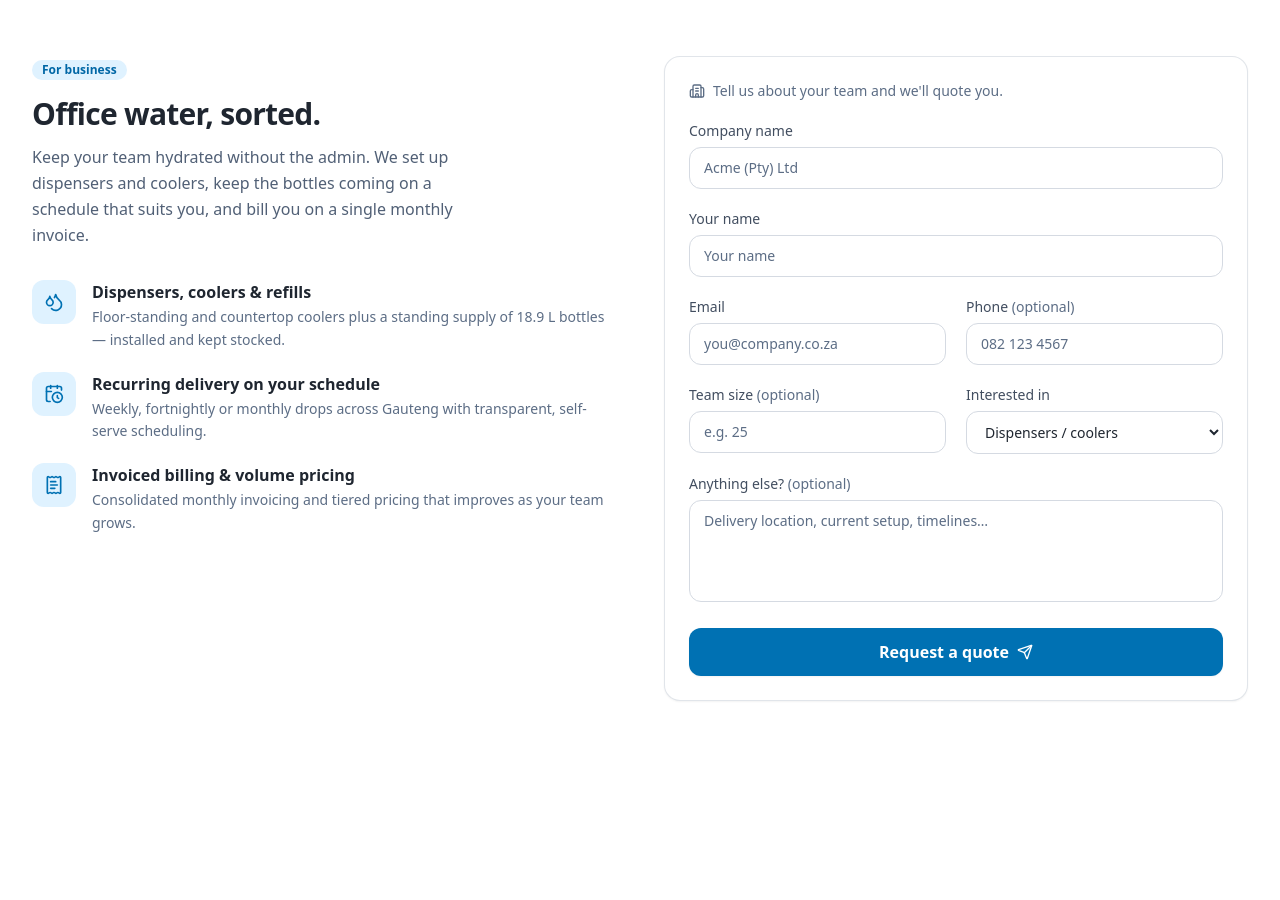
Test: Business › submits and shows confirmation on success
Step 1. Type "Acme Ltd" into the field labelled "Company name" → (956, 168), box [689,147,1223,189]
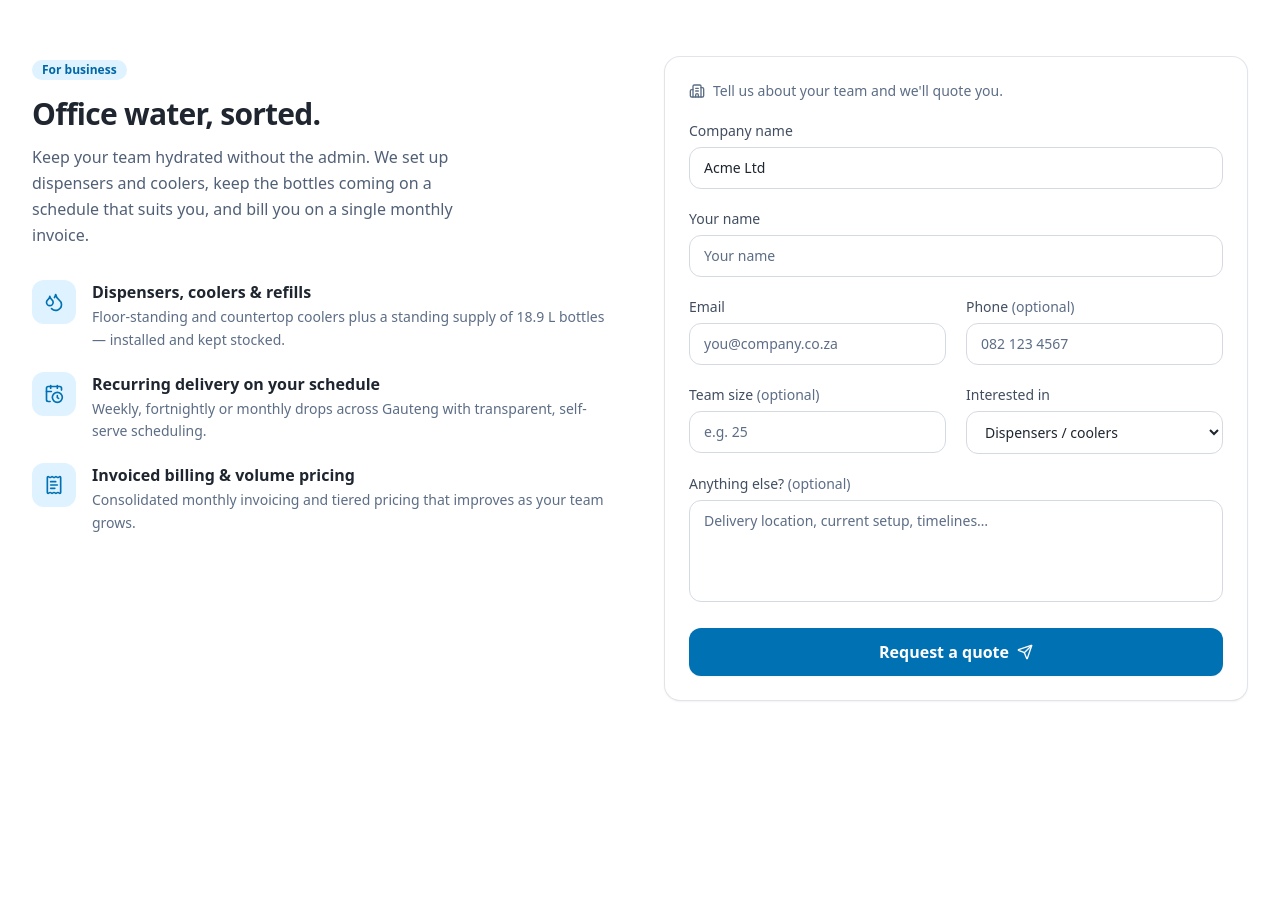
Step 2. Type "Jane Doe" into the field labelled "Your name" → (956, 256), box [689,235,1223,277]
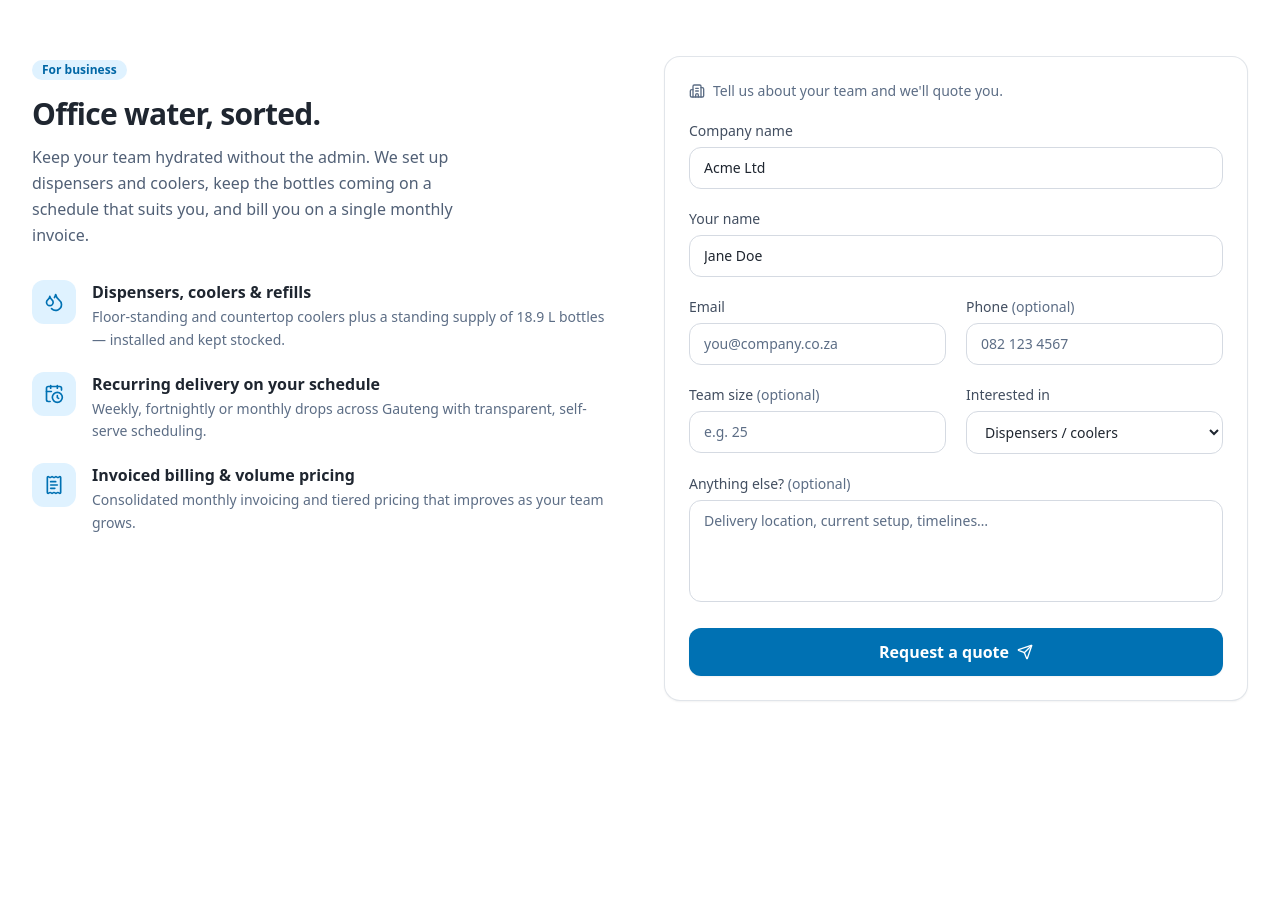
Step 3. Type "jane@acme.co.za" into the field labelled "Email" → (818, 344), box [689,323,946,365]
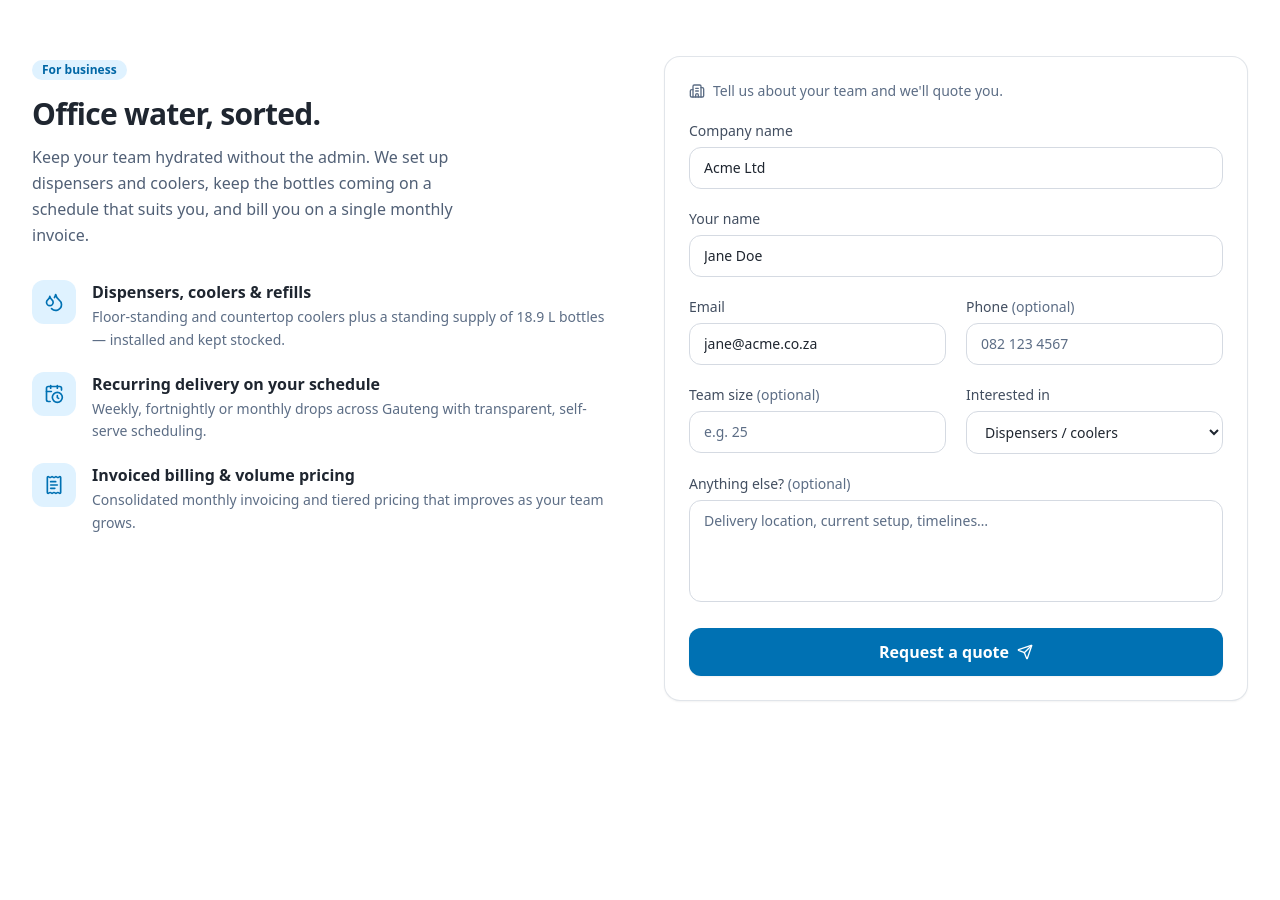
Step 4. Click the button "Request a quote" → click(956, 652), box [689,628,1223,676]
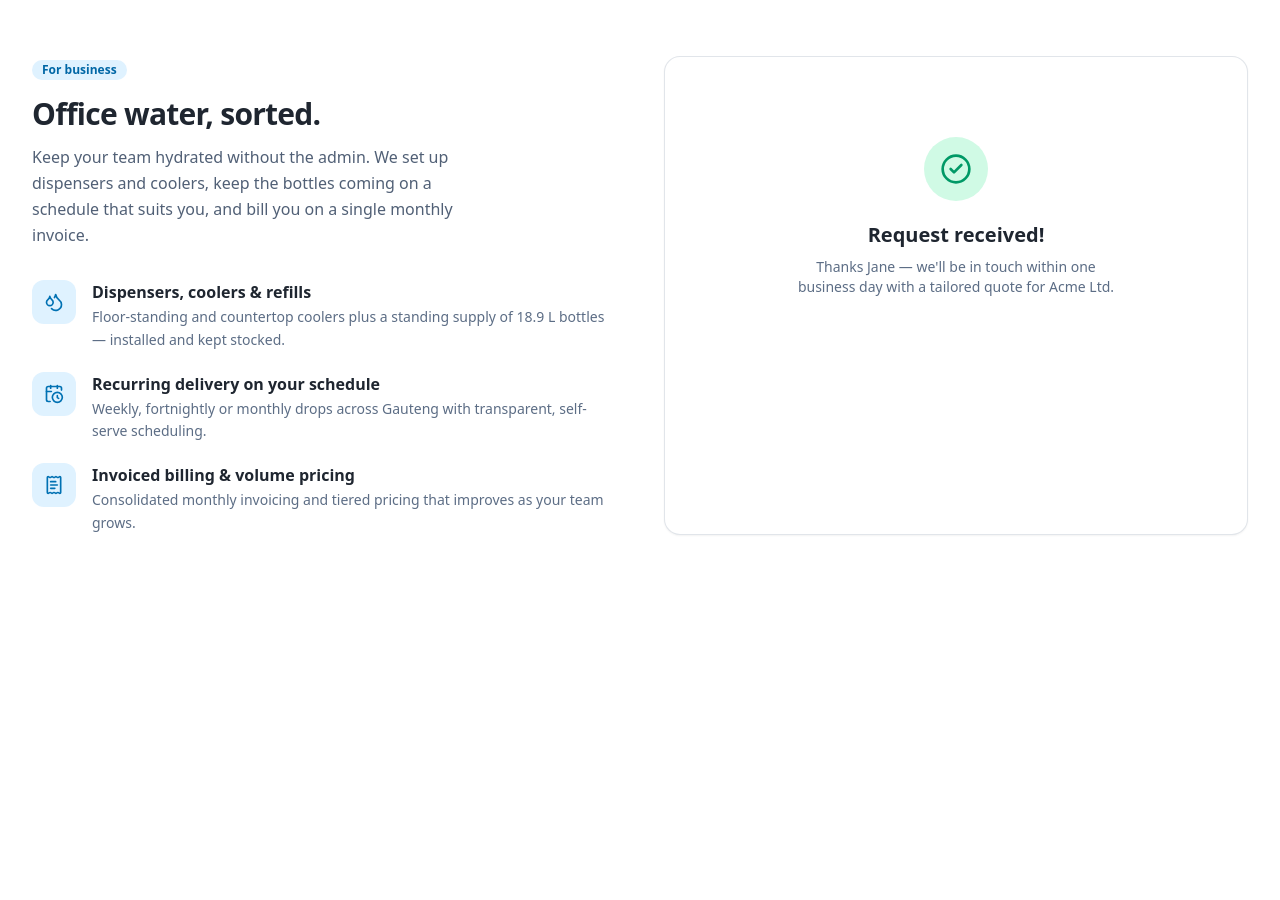
Check: the heading "Request received!" is shown, box [868,221,1044,249]
